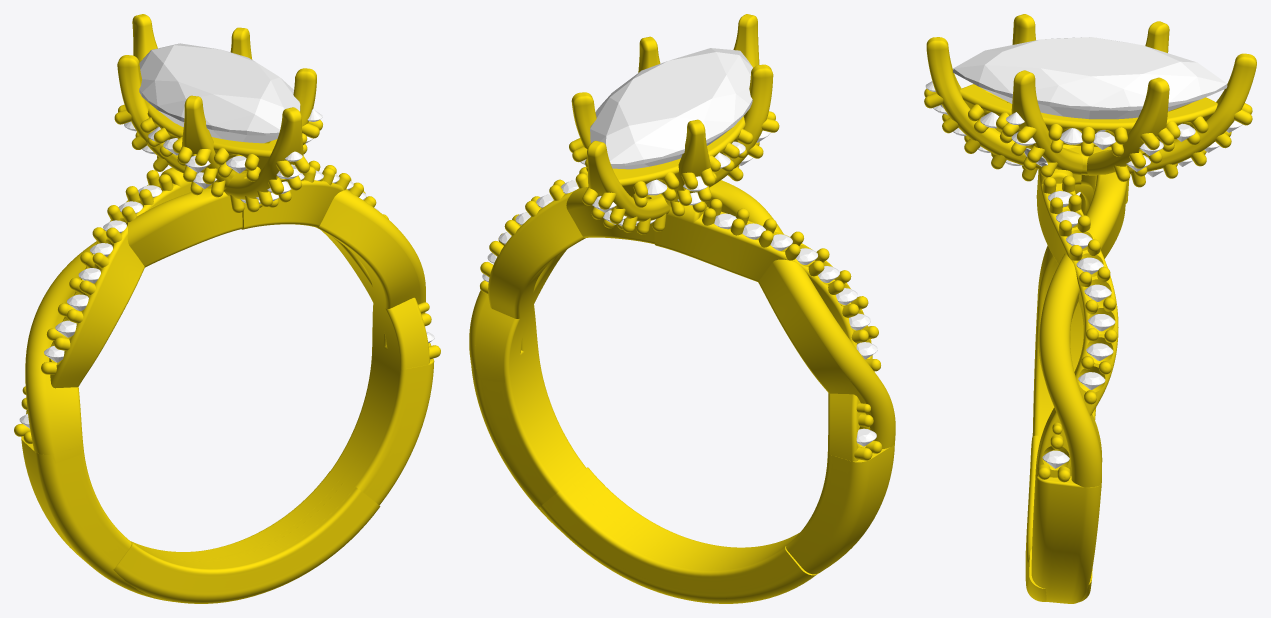
Rendered from 1787560593350-LLGCC238RG.-1glb.glb.
The picture shows the model from 3 angles, left to right: view 1: azimuth 30°, elevation 25°; view 2: azimuth 150°, elevation 25°; view 3: azimuth 270°, elevation 25°; orthographic projection. The views are drawn at different scales.
Parts seen in each view (by area): view 1: Metal-1, gem_1; view 2: Metal-1, gem_1; view 3: Metal-1, gem_1.
Boxes of the visible parts, bbox=[...] form: Metal-1: bbox=[14, 14, 440, 603]; gem_1: bbox=[139, 43, 300, 143]; Metal-1: bbox=[469, 14, 895, 603]; gem_1: bbox=[590, 48, 752, 169]; Metal-1: bbox=[924, 14, 1256, 603]; gem_1: bbox=[953, 37, 1227, 132].
Bounding box in the file's own units: 22.05 × 27.45 × 15.27.
